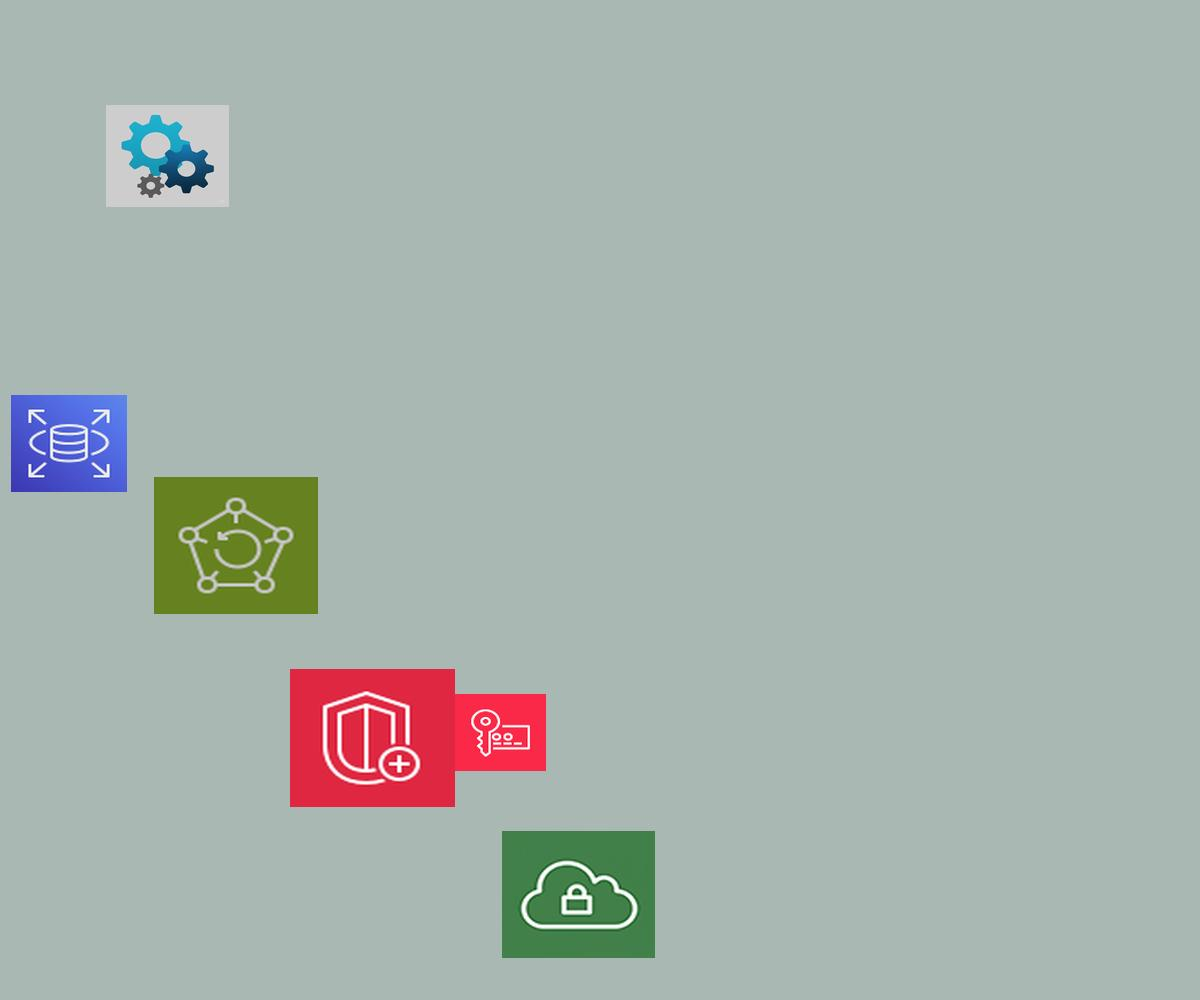AWS-Backup: (154, 477, 318, 614)
AWS-Key-Management-Service: (454, 694, 546, 771)
AWS-Private_vpc: (502, 831, 655, 958)
AWS-RDS: (11, 395, 127, 492)
AWS-Shield: (290, 669, 455, 807)
Azure_api: (106, 105, 229, 207)
